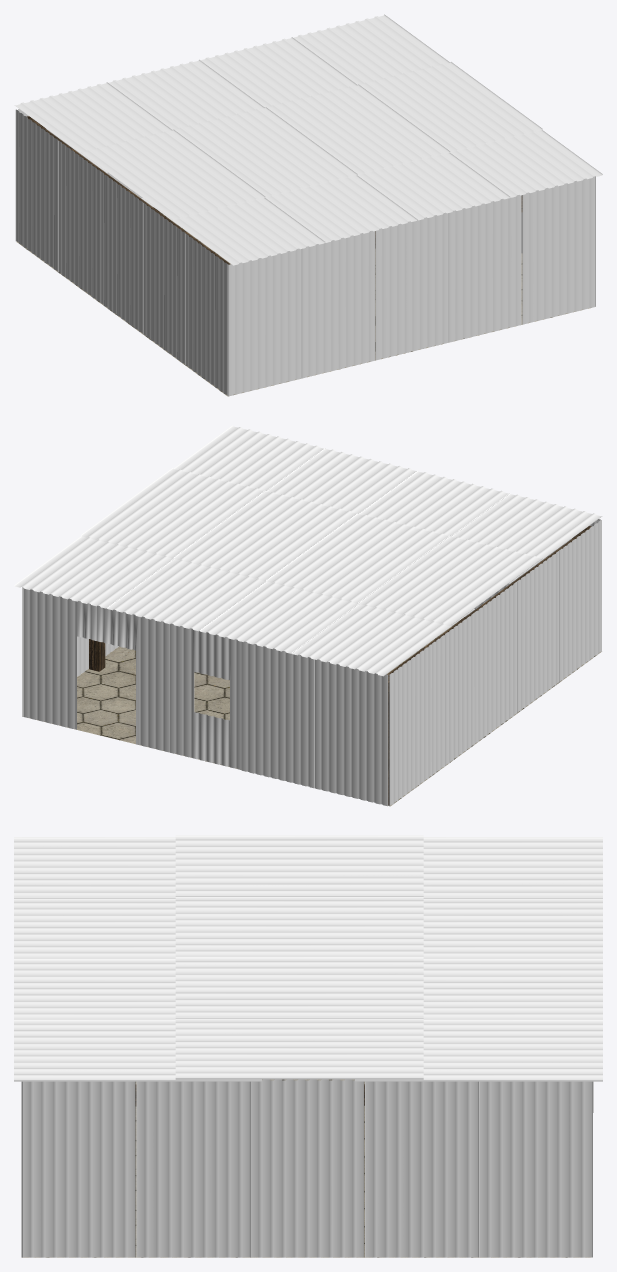
Rendered from MetalHouse2.fbx.
3 views of the same model, one above another, from view 1: azimuth 30°, elevation 25°; view 2: azimuth 150°, elevation 25°; view 3: azimuth 270°, elevation 25° (orthographic). The views are drawn at different scales.
Parts seen in each view (by area): view 1: Roof, Cube.001, Right, Floor; view 2: Roof, Cube.002, Right, Floor, Left; view 3: Roof, Left, Floor.
Part boxes in pixels (x1,y1,x2,y2): Roof: (14,14,602,265); Cube.001: (228,176,595,396); Right: (15,109,230,395); Floor: (16,213,590,396); Roof: (14,425,601,676); Cube.002: (23,588,389,806); Right: (387,520,601,806); Floor: (29,622,601,806); Left: (22,587,118,716); Roof: (14,835,602,1081); Left: (21,1079,592,1257); Floor: (23,1079,591,1257).
Bounding box in the file's own units: 8.41 × 2.91 × 8.55.
